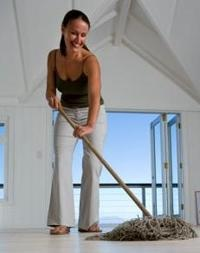person without safety: (40, 8, 106, 233)
